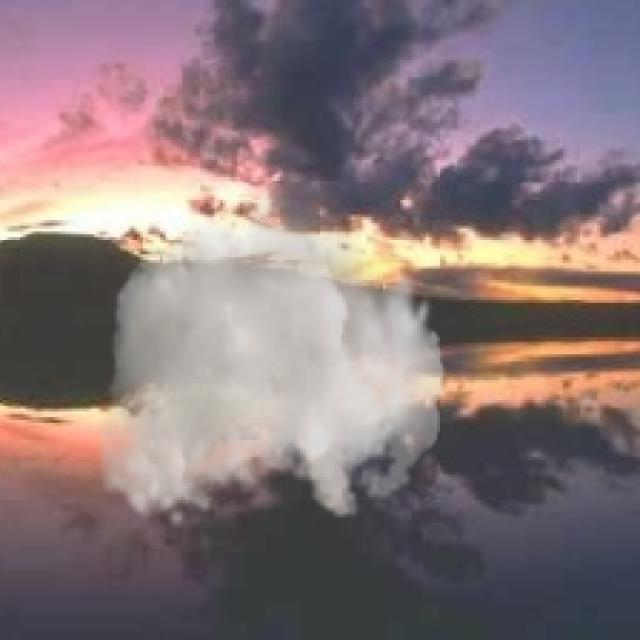smoke: (97, 174, 446, 529)
